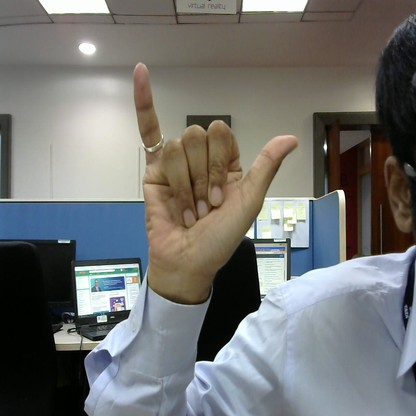y: (120, 62, 304, 281)
